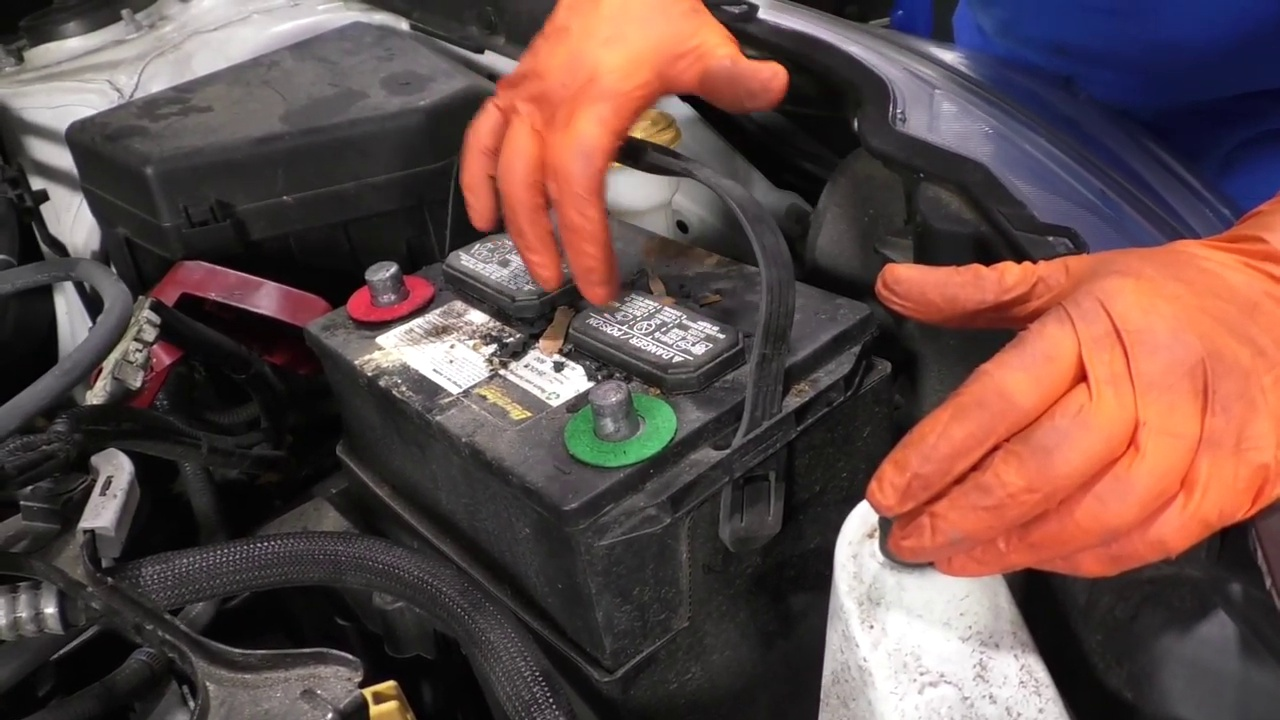battery: (307, 195, 865, 509)
neg_disconnected: (534, 352, 686, 489)
pos_disconnected: (162, 220, 431, 380)
